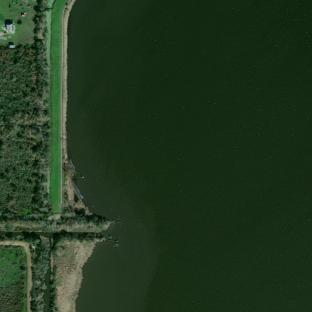Floresta: (0, 37, 50, 216), (49, 233, 106, 310), (0, 232, 50, 312), (0, 216, 107, 230)
